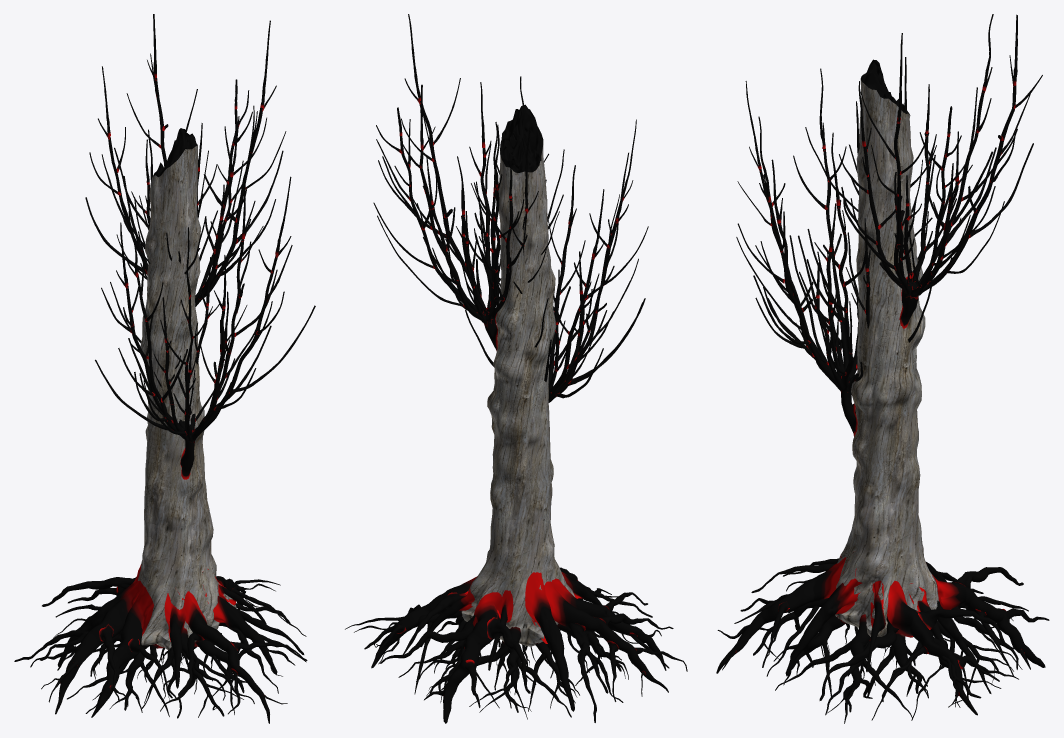
File: Populus nigra Italica HD_Snag 1 dead_LOD1.fbx
3 views of the same model, side by side, from view 1: azimuth 30°, elevation 25°; view 2: azimuth 150°, elevation 25°; view 3: azimuth 270°, elevation 25° (orthographic). The views are drawn at different scales.
Parts seen in each view (by area): view 1: Populus_nigra__Italica__HD; view 2: Populus_nigra__Italica__HD; view 3: Populus_nigra__Italica__HD.
Part boxes in pixels (box(x1,y1,x2,y2)): Populus_nigra__Italica__HD: box(14, 14, 315, 723); Populus_nigra__Italica__HD: box(345, 14, 687, 723); Populus_nigra__Italica__HD: box(716, 14, 1049, 723).
Bounding box in the file's own units: 4.18 × 8.95 × 3.84.
